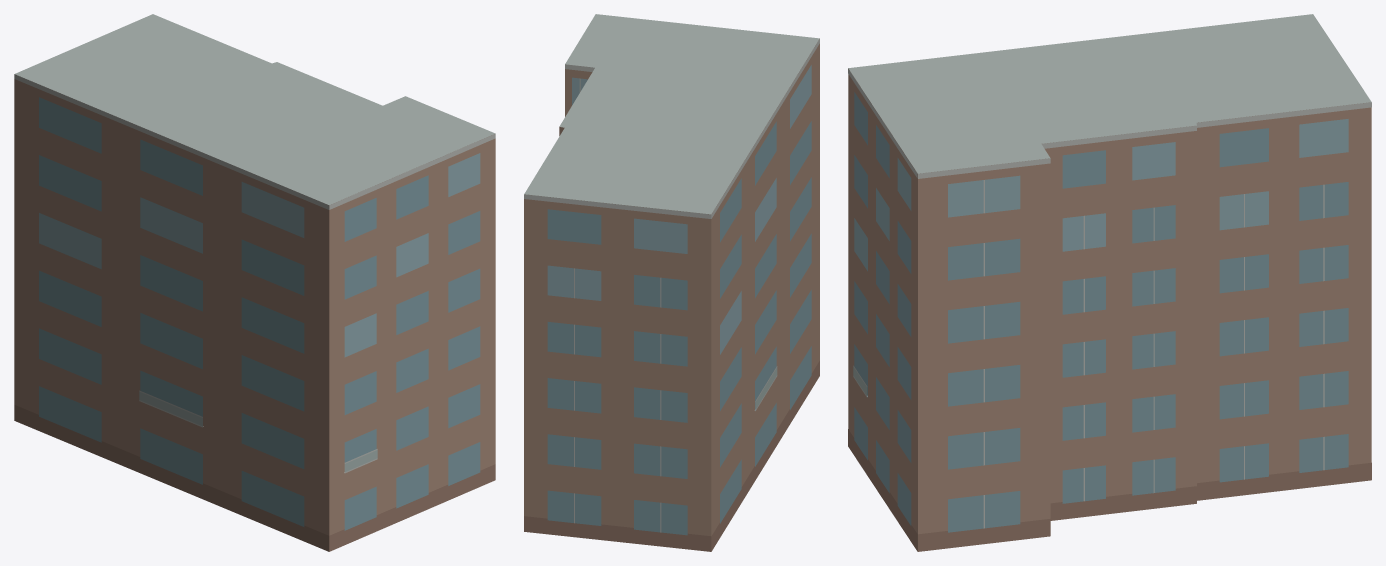
File: survey-upis-32562349.glb
3 renders of one model, left to right at view 1: azimuth 30°, elevation 25°; view 2: azimuth 150°, elevation 25°; view 3: azimuth 270°, elevation 25°, orthographic. The views are drawn at different scales.
Visible parts, largest first — view 1: survey-upis-32562349.tmp; view 2: survey-upis-32562349.tmp; view 3: survey-upis-32562349.tmp.
Boxes of the visible parts, x1,y1,x2,y2 form: survey-upis-32562349.tmp: (14,14,495,551); survey-upis-32562349.tmp: (524,14,819,551); survey-upis-32562349.tmp: (848,14,1371,551).
Bounding box in the file's own units: 15.77 × 17.4 × 21.85.
